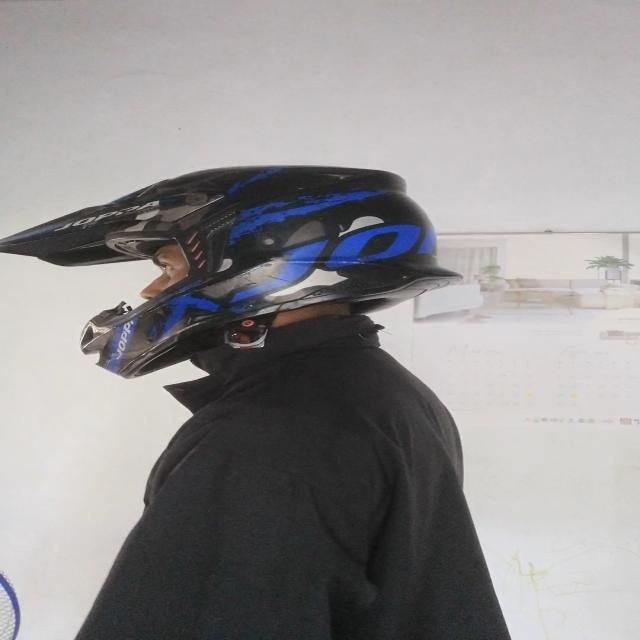Helmet_Wearer: (2, 154, 471, 392)
Jacket_Wearer: (36, 302, 522, 640)
Person: (68, 154, 510, 640)
